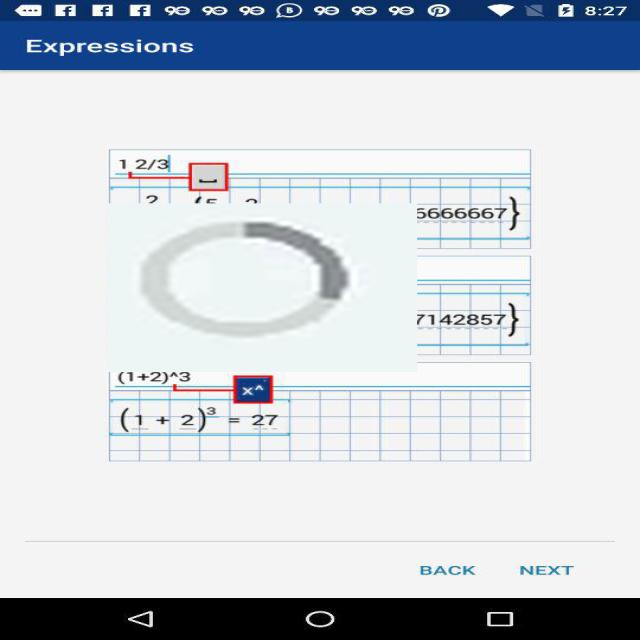misdirection: (107, 203, 417, 372)
